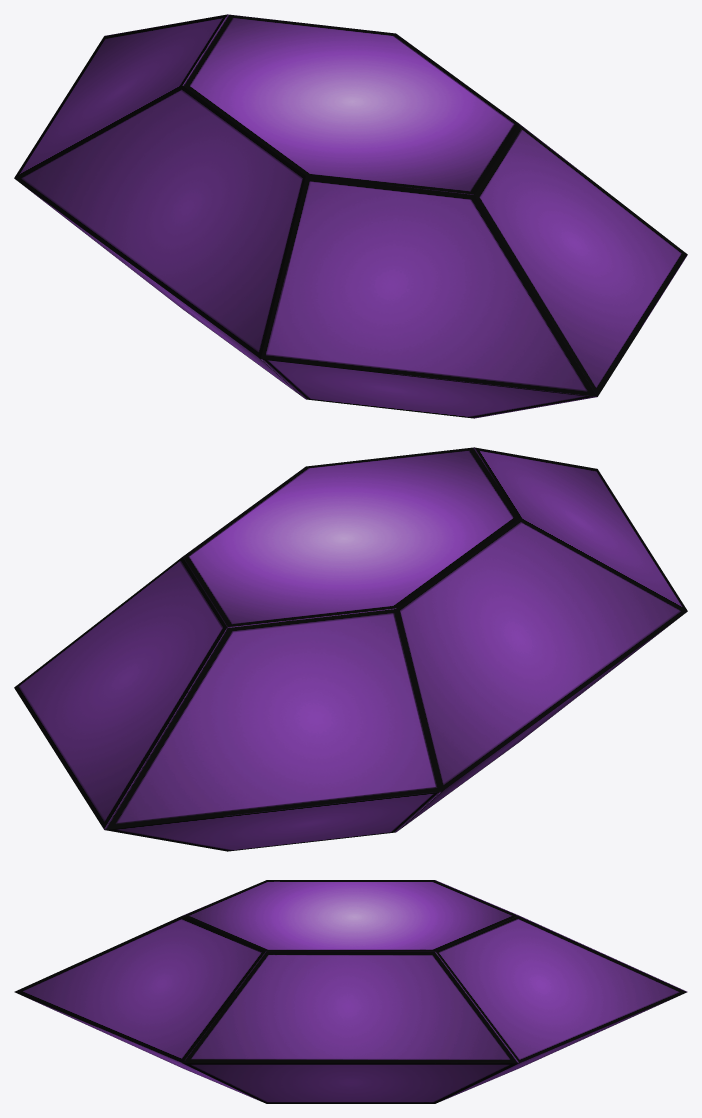
File: phiras.obj
3 renders of one model, top to bottom at view 1: azimuth 30°, elevation 25°; view 2: azimuth 150°, elevation 25°; view 3: azimuth 270°, elevation 25°, orthographic. The views are drawn at different scales.
Visible parts, largest first — view 1: Cube.001; view 2: Cube.001; view 3: Cube.001.
Boxes of the visible parts, left/top/right/bottom form: Cube.001: left=14, top=14, right=687, bottom=418; Cube.001: left=14, top=447, right=687, bottom=851; Cube.001: left=14, top=880, right=687, bottom=1103.
Bounding box in the file's own units: 4 × 2 × 8.
Materials: 1 (1 with a texture image).
